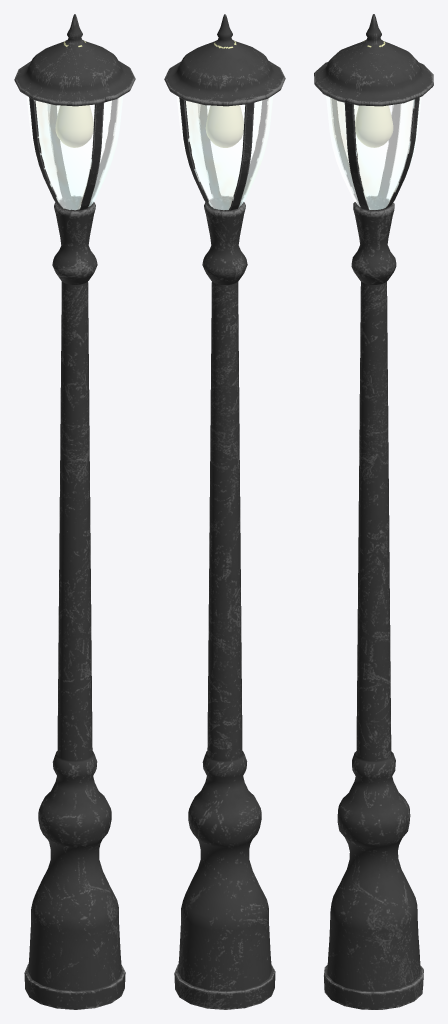
Rendered from lamp.glb.
The picture shows the model from 3 angles, left to right: view 1: azimuth 30°, elevation 25°; view 2: azimuth 210°, elevation 25°; view 3: azimuth 330°, elevation 25°; orthographic projection.
Visible parts, largest first — view 1: Light_Light_shader_0; view 2: Light_Light_shader_0; view 3: Light_Light_shader_0.
Part boxes in pixels (<box>): Light_Light_shader_0: <box>14,14,135,1009</box>; Light_Light_shader_0: <box>164,14,285,1009</box>; Light_Light_shader_0: <box>314,14,433,1009</box>.
Bounding box in the file's own units: 0.4669 × 4.15 × 0.4568.
1 material, 1 textured.
